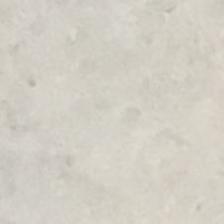Non_Crack: (13, 38, 224, 210)
